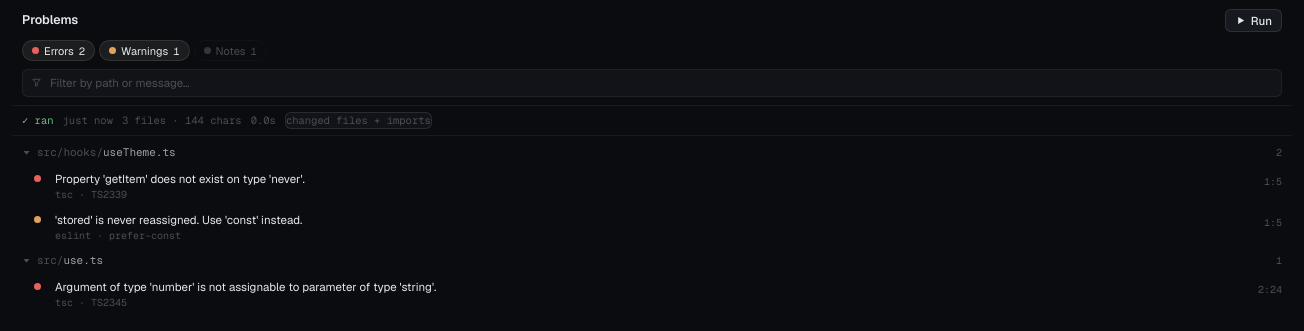
Scenario: ProblemsPanel › the substring filter narrows by path or message
The width and height of the screenshot is (1304, 331).
Expected: the list is shown, [12,140,1292,315]
Type "usetheme" into the field named "filter problems" at (660, 83), box [48,74,1273,92]
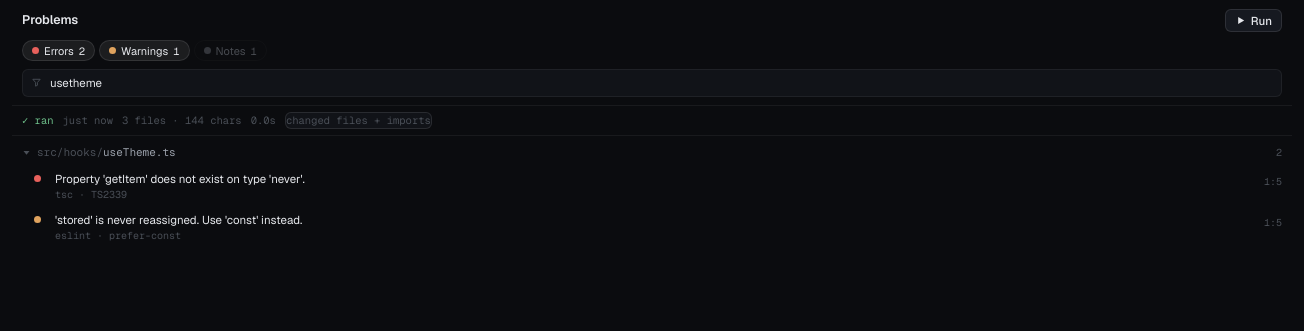
Now the number of options is 2, box [12,166,1292,207]; [12,207,1292,248]
Replace the text in the field named "filter problems" with "zzz-nothing" at (660, 83), box [48,74,1273,92]
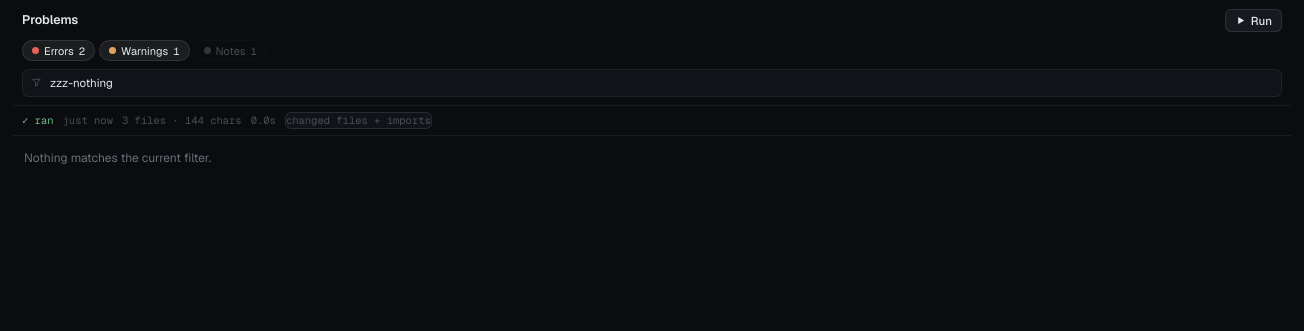
Now no options are shown
Now the text "Nothing matches the current filter." is shown, box [24,150,211,166]
